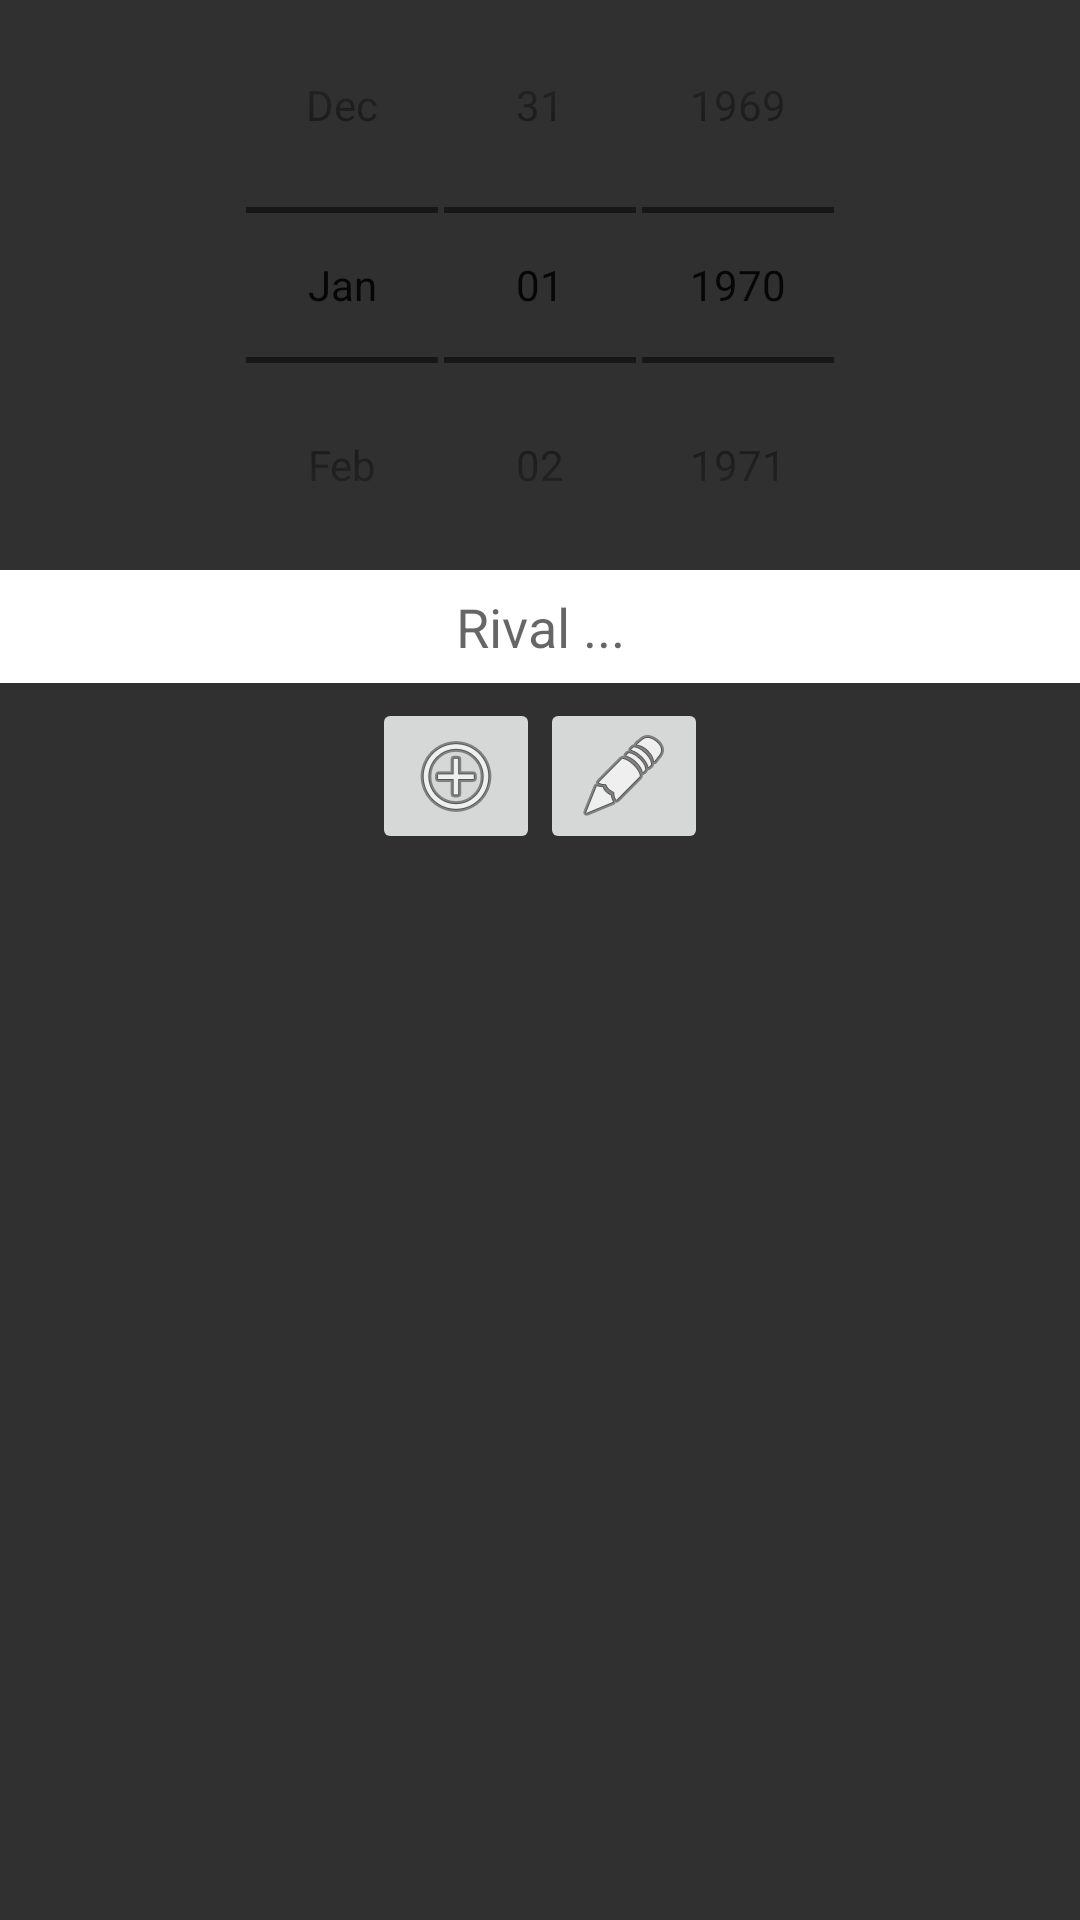

Icons on this 1080px x 1920px Android screen, each with the point to tap as (x=x, y=y):
add: (x=456, y=776)
edit: (x=624, y=776)
